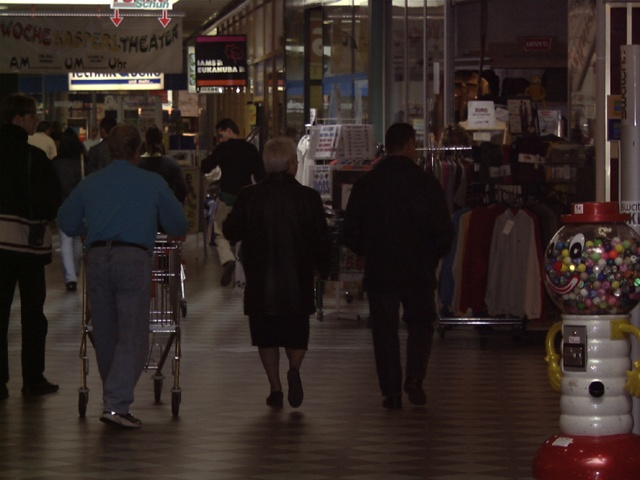person: (57, 123, 186, 434), (218, 137, 337, 413), (345, 125, 454, 414)
